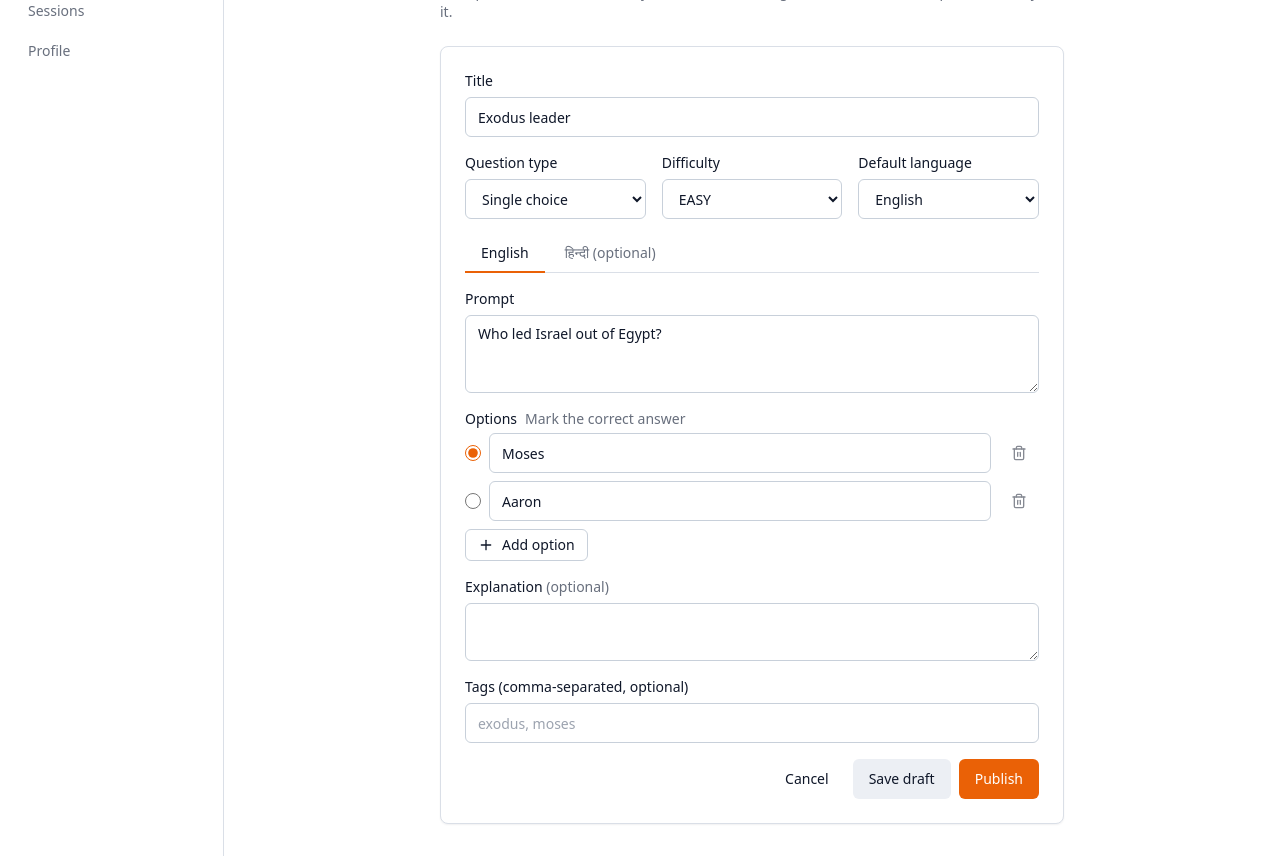
Test case: EditQuestionPage › publishes an edited draft and returns to the quiz with the question attached
(page scrolled)
Expected: the field labelled "Title" is shown, [465,97,1039,137]
Click the button "Publish": (999, 779) [959,759,1039,799]
(page scrolled)
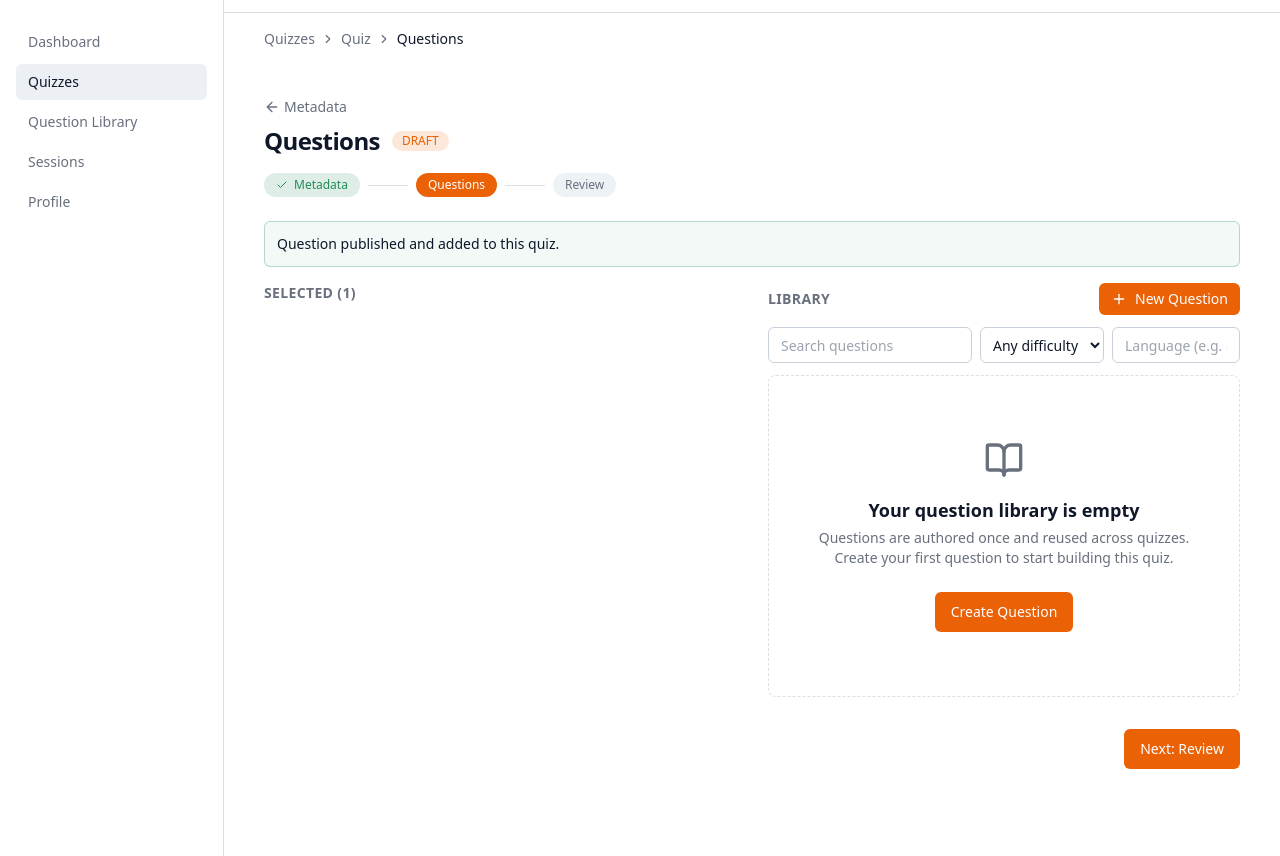
Now the text "Question published and added to this quiz." is shown, box [264,221,1240,267]
